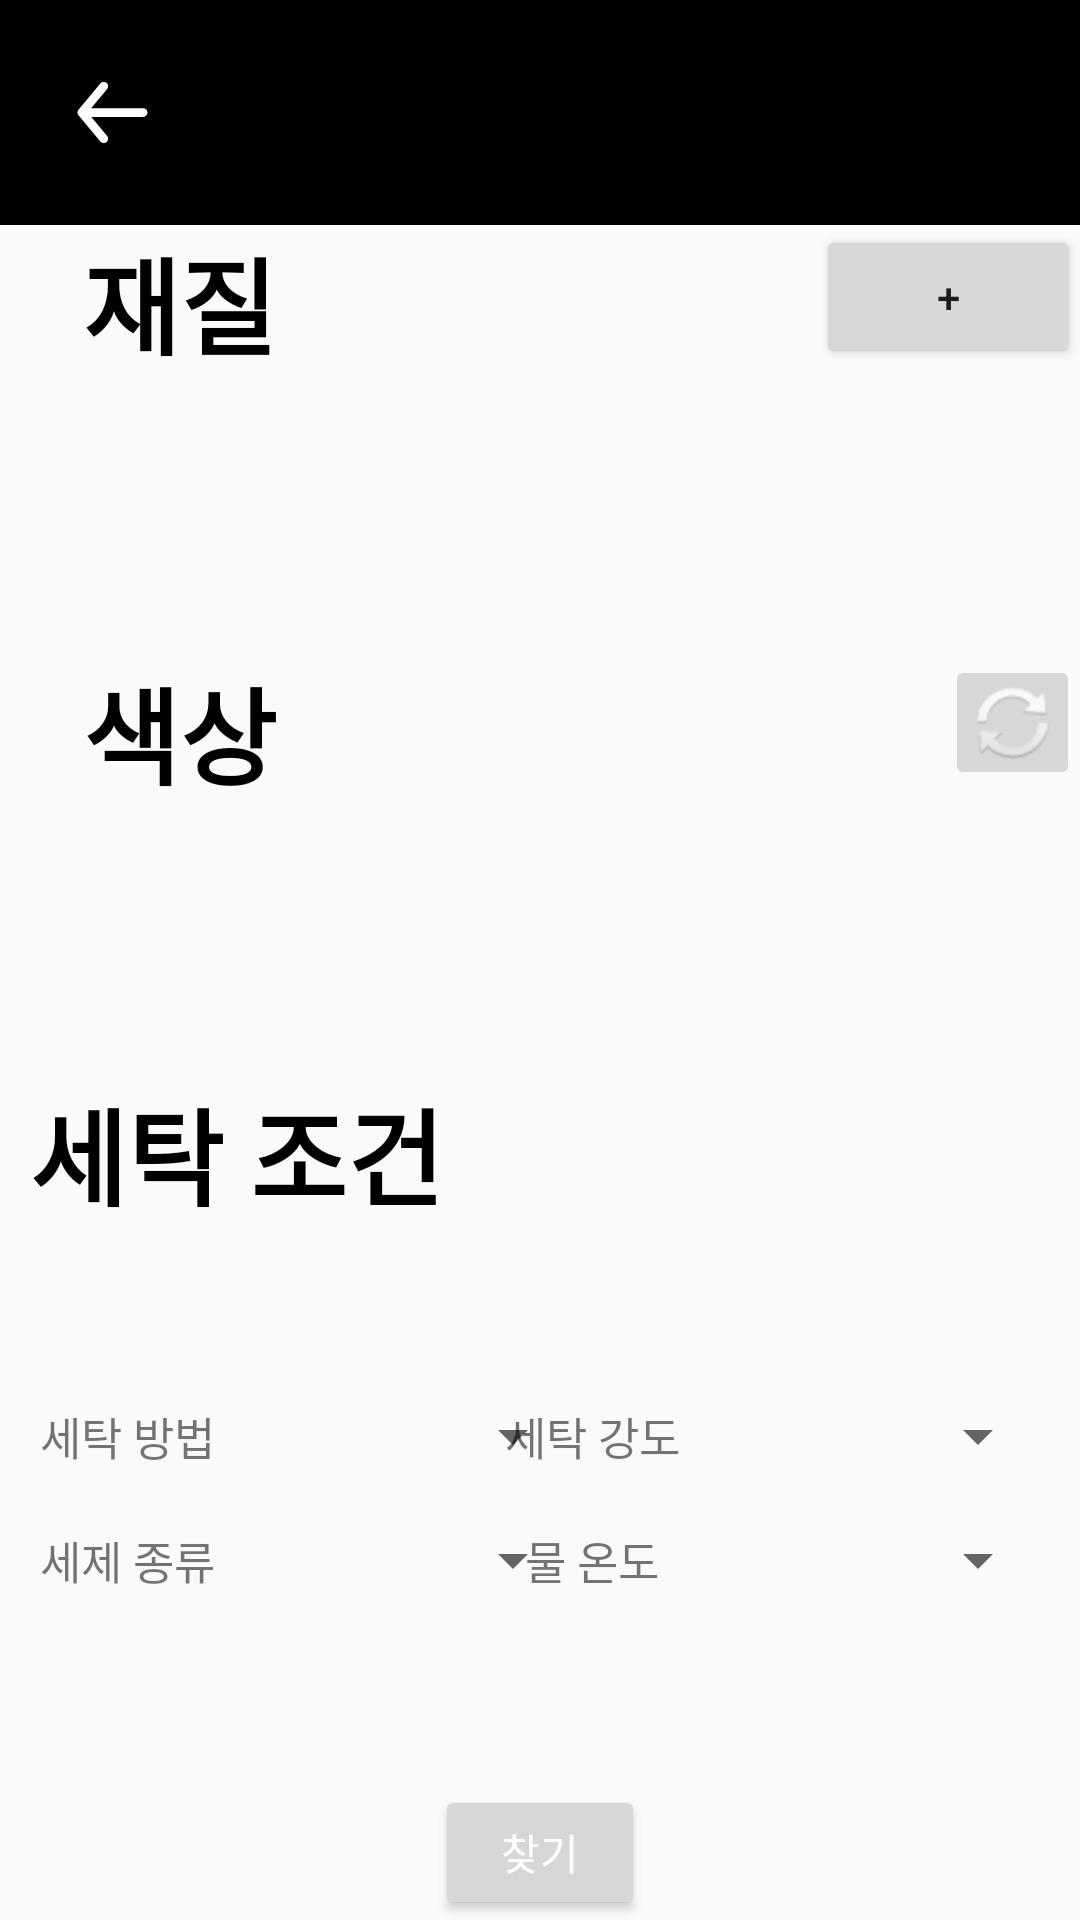

Icon bounding boxes for this 1080*1920 phone screenshot, format (left=x1, top=y1, right=x2, bottom=y2):
back arrow: (left=77, top=82, right=148, bottom=143)
popup sync: (left=957, top=673, right=1068, bottom=772)
